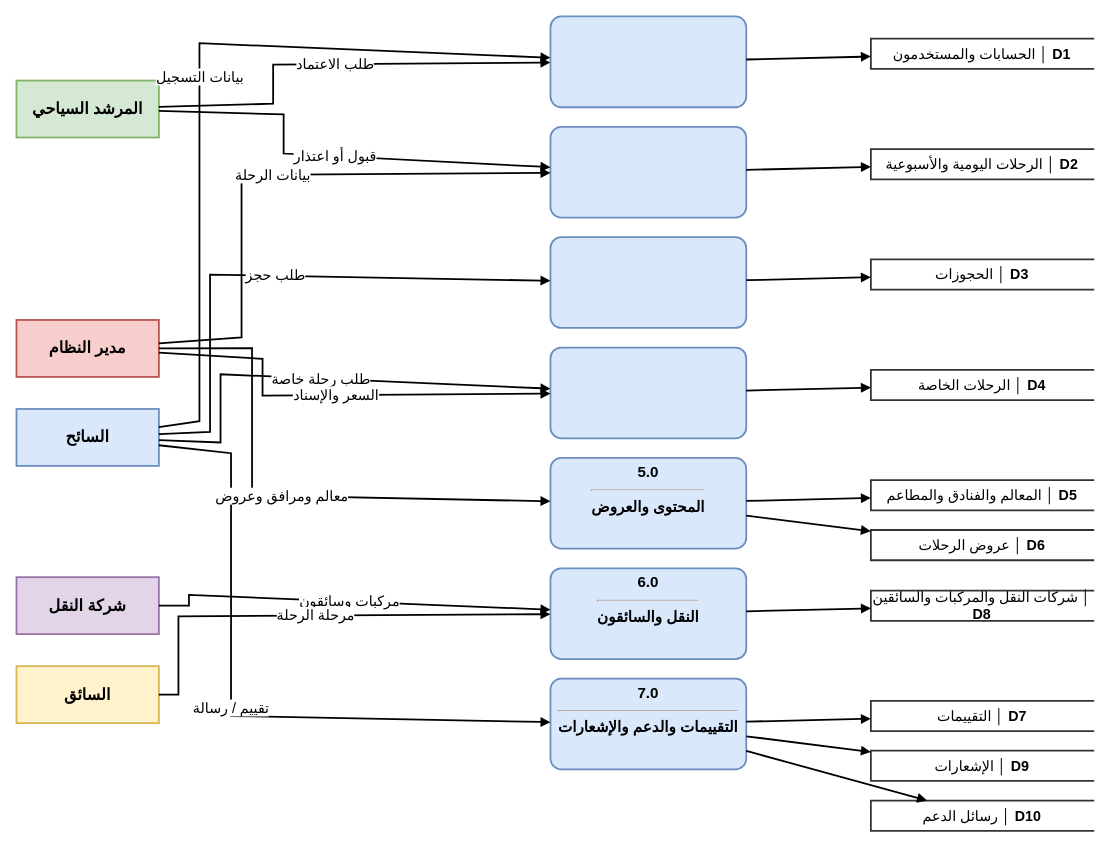
Some shapes in this 1109 by 846 pixel diagram are drawn without their labels. The centre of each missing label's shape, as x and y in pixels:
1.0 إدارة الحسابات والاعتماد: point 648,61
2.0 إدارة الرحلات: point 648,171
3.0 الحجز والدفع والحضور: point 648,282
4.0 الرحلات الخاصة: point 648,392
